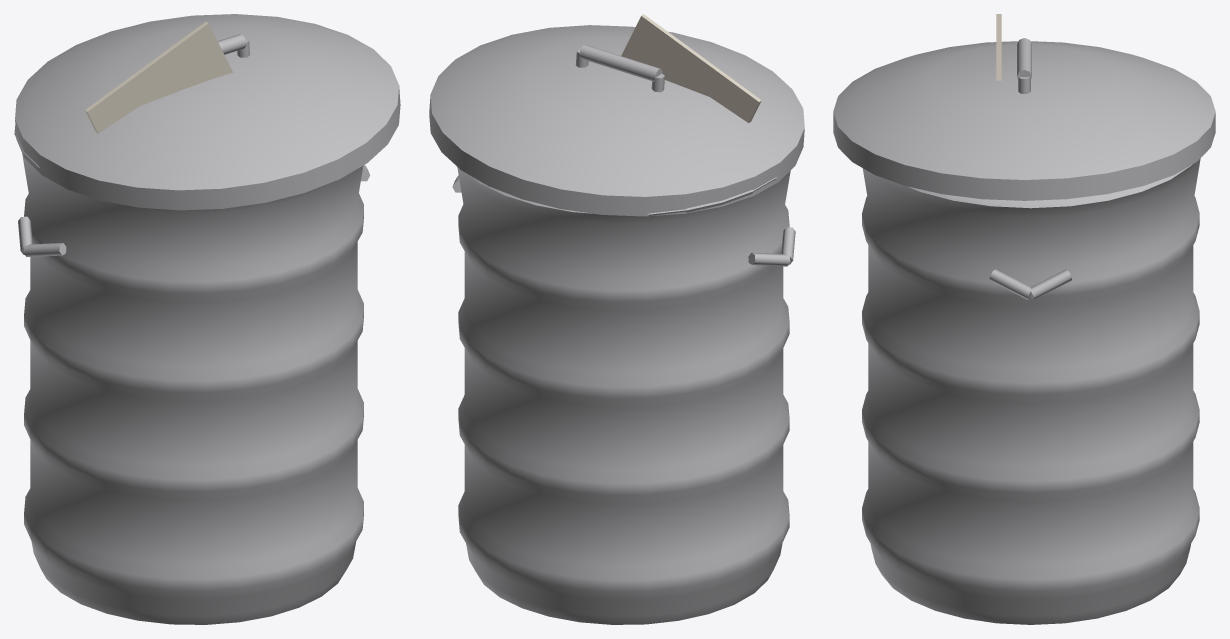
The model's file is trash_can.glb.
3 views of the same model, side by side, from view 1: azimuth 30°, elevation 25°; view 2: azimuth 150°, elevation 25°; view 3: azimuth 270°, elevation 25° (orthographic). The views are drawn at different scales.
Parts seen in each view (by area): view 1: trash_can; view 2: trash_can; view 3: trash_can.
Part boxes in pixels (box(x1,y1,x2,y2)): trash_can: box(14, 14, 400, 624); trash_can: box(429, 14, 804, 624); trash_can: box(833, 14, 1215, 624).
Bounding box in the file's own units: 0.6282 × 0.9432 × 0.6.
